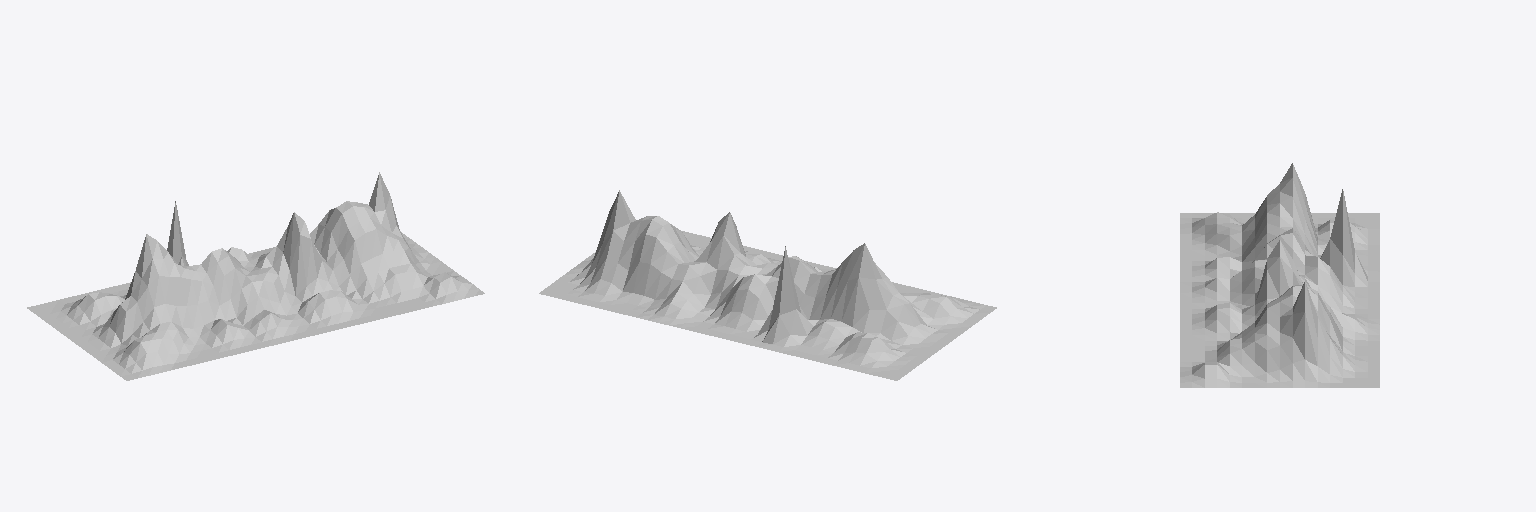
File: mountains.obj
3 views of the same model, side by side, from view 1: azimuth 30°, elevation 25°; view 2: azimuth 150°, elevation 25°; view 3: azimuth 270°, elevation 25° (orthographic).
Parts seen in each view (by area): view 1: Height_Map; view 2: Height_Map; view 3: Height_Map.
Boxes of the visible parts, box(x1,y1,x2,y2) form: Height_Map: box(27, 172, 484, 380); Height_Map: box(539, 190, 996, 380); Height_Map: box(1180, 163, 1379, 387).
Size of the model in its own units: 256 by 61 by 124.